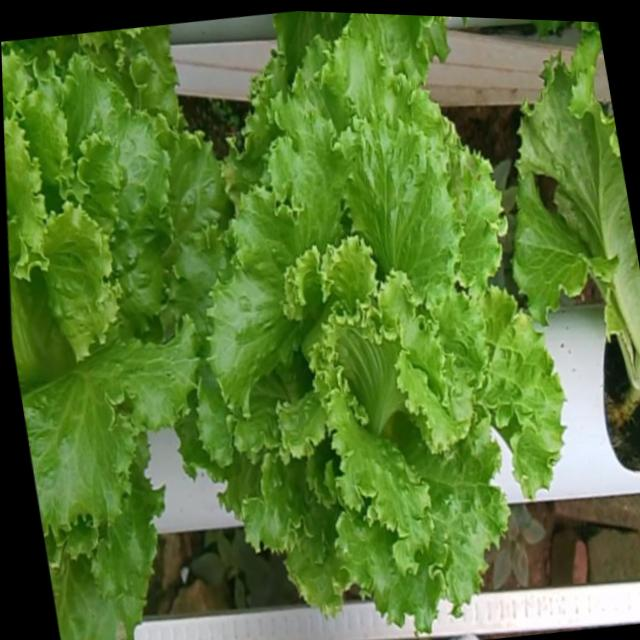Mature: (191, 47, 557, 640), (4, 64, 220, 550)
